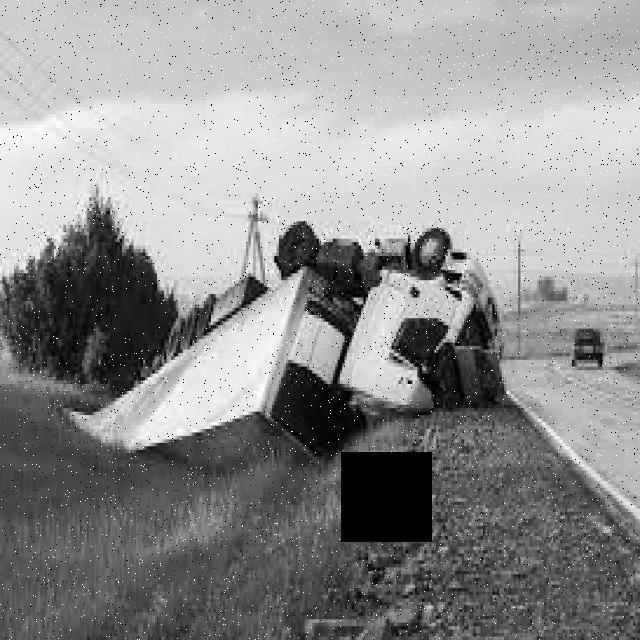accident: (86, 211, 513, 471)
vehicle: (571, 321, 607, 370)
